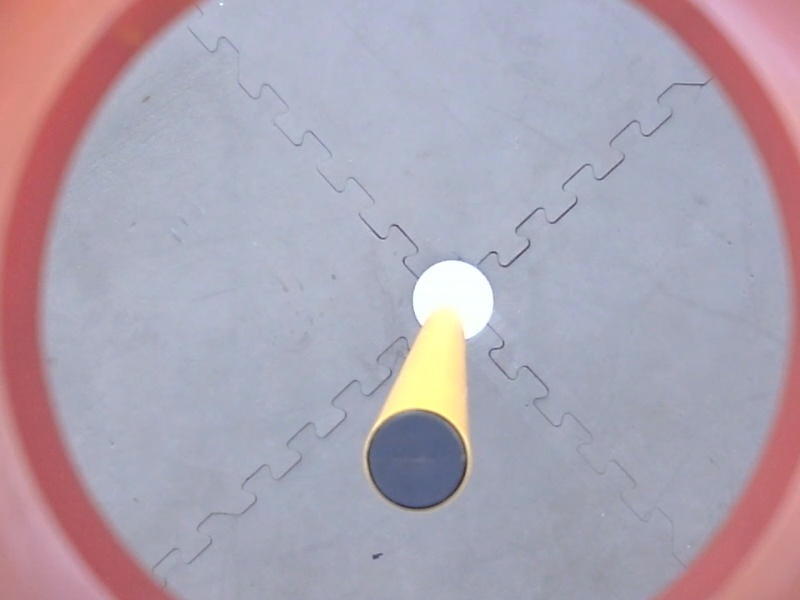tip: (357, 402, 474, 517)
